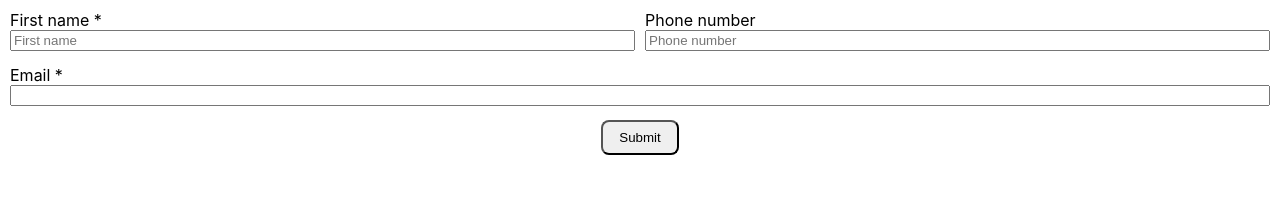
Scenario: components/form › should validate before submit › fail
Click the button "Submit" at (640, 138), box [601,120,679,155]
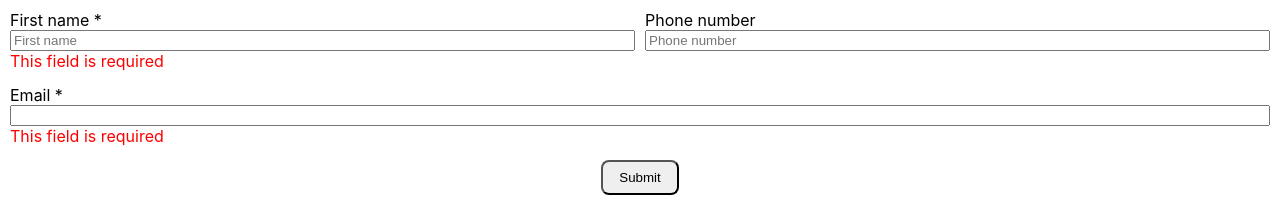
Expected: the text "This field is required" is shown 2 times, [10,51,164,71]; [10,126,164,146]
